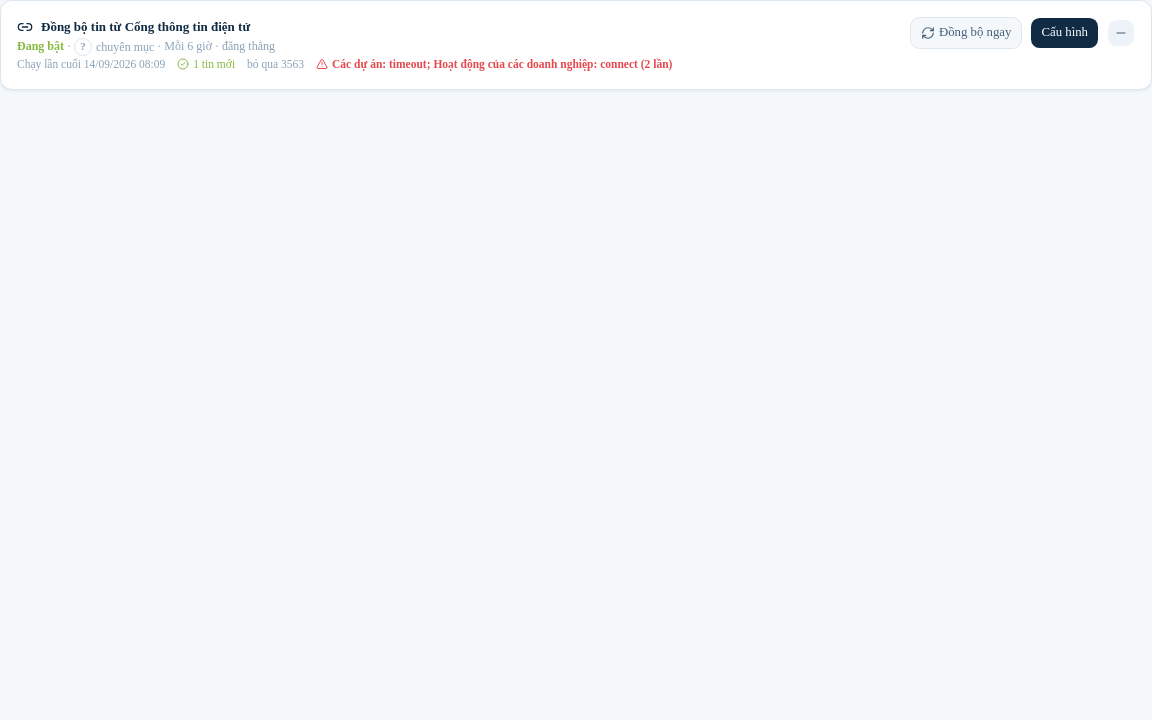
Cấu hình — the dialog (prototype `ContentSourcePanel.tsx:313-566`) › the checkbox box, in the prototype's order; `Tải ảnh về kho của xã` is a disabled '?' with its note
Click the button "Cấu hình".
click(1065, 33)  # box [1030,17,1099,49]
(page scrolled)
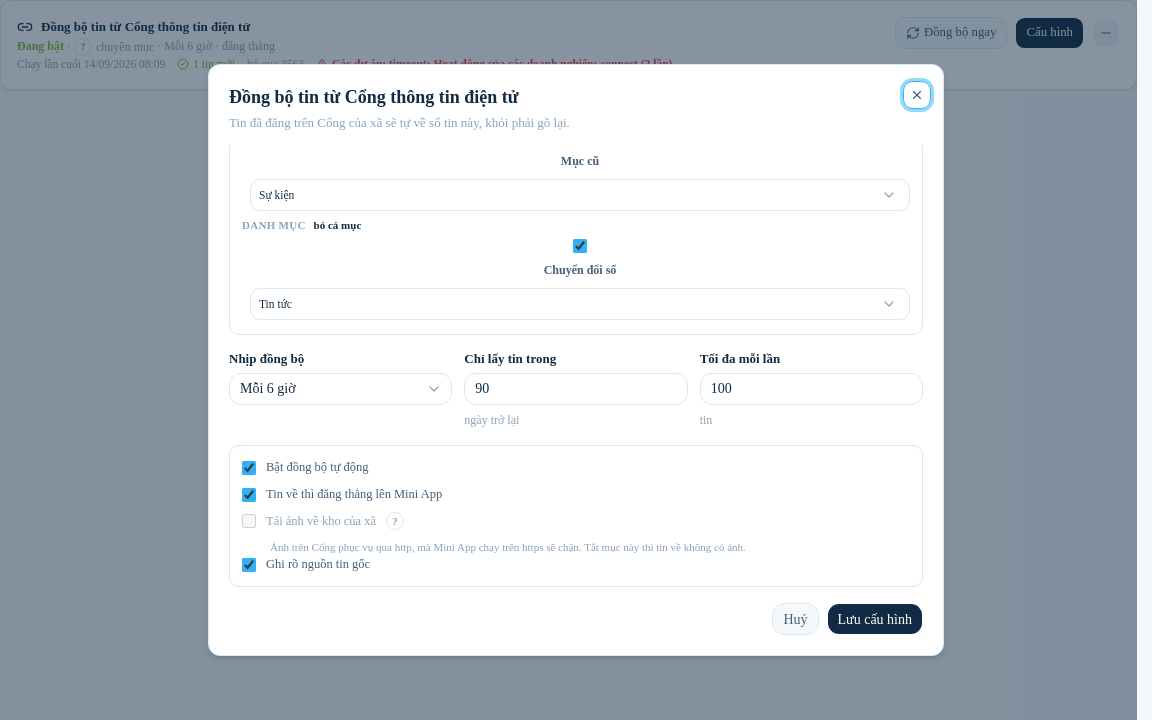
Check: the checkbox labelled "Tải ảnh về kho của xã" is disabled, box [242,514,256,528]
Check: the text "Ảnh trên Cổng phục vụ qua http, mà Mini App chạy trên https sẽ chặn. Tắt mục này thì tin về không có ảnh." is shown, box [270,541,746,553]
